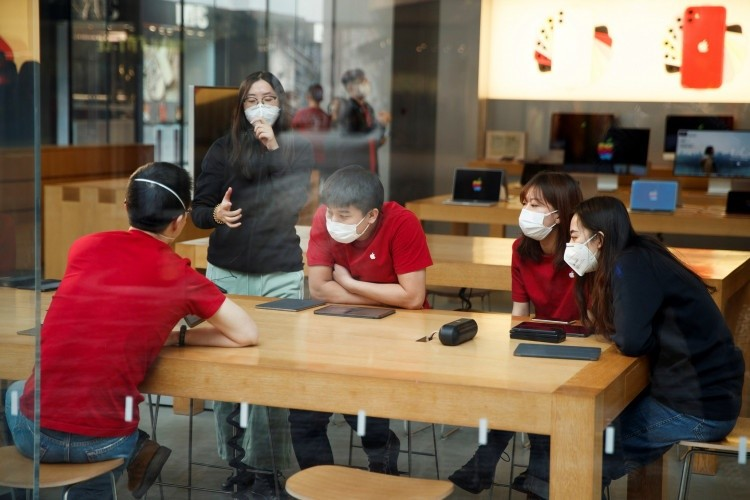face_with_mask: (316, 178, 383, 256), (507, 178, 577, 249), (556, 210, 609, 287), (231, 75, 288, 143)
